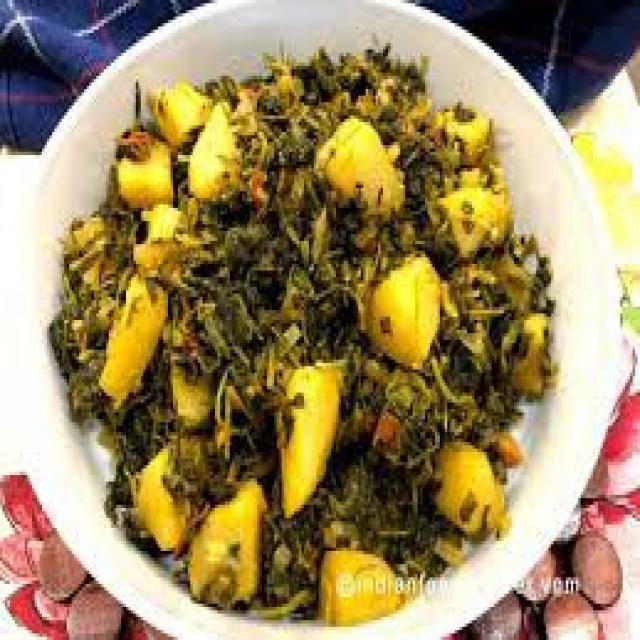Aloo Methi: (66, 61, 556, 620)
